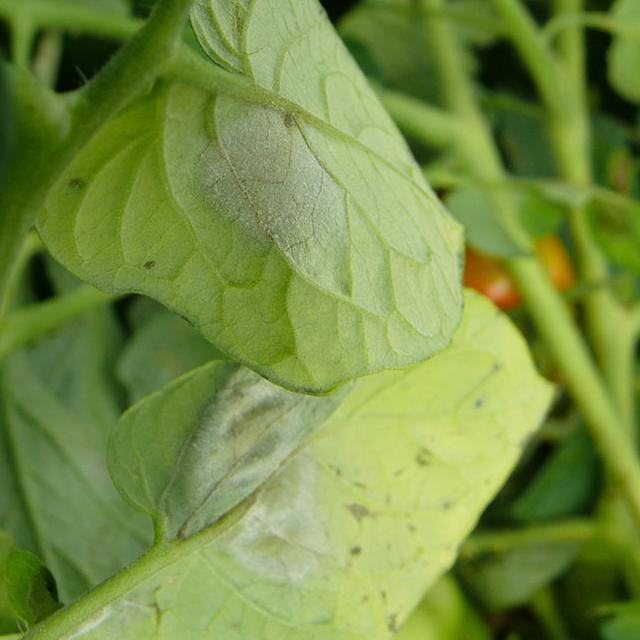Tomato leaf late blight: (47, 278, 590, 640), (30, 0, 464, 377)
